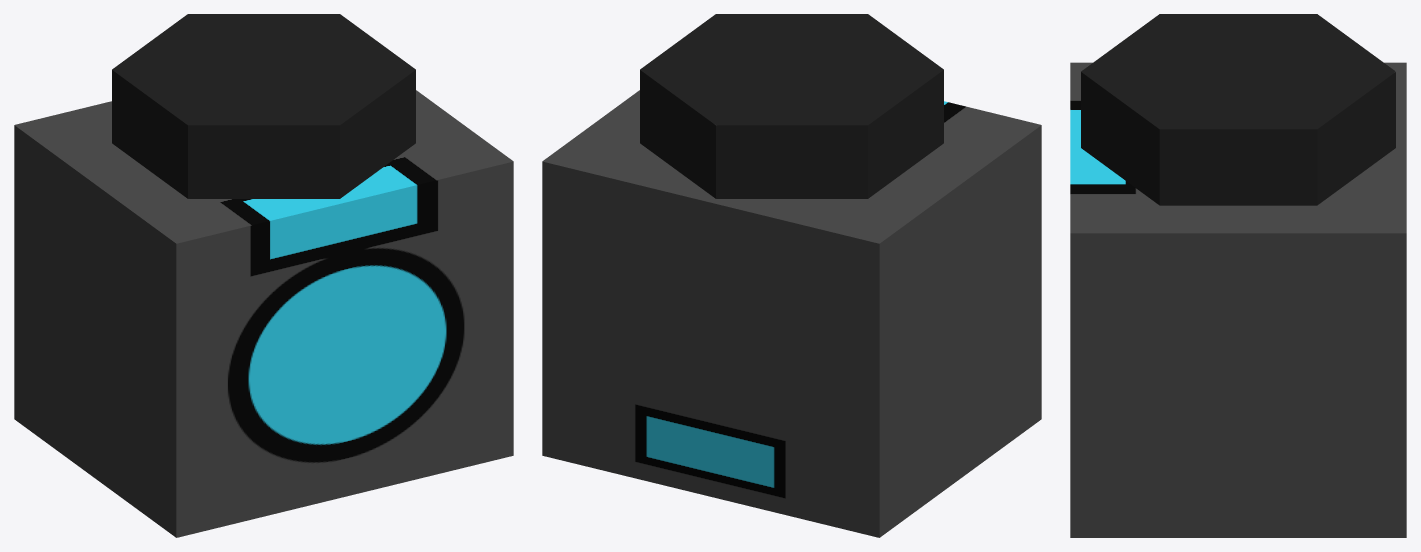
File: P_Body.gltf
3 renders of one model, left to right at view 1: azimuth 30°, elevation 25°; view 2: azimuth 150°, elevation 25°; view 3: azimuth 270°, elevation 25°, orthographic. The views are drawn at different scales.
Visible parts, largest first — view 1: P_Body; view 2: P_Body; view 3: P_Body.
Boxes of the visible parts, <box> form: P_Body: <box>14,14,513,537</box>; P_Body: <box>542,14,1041,537</box>; P_Body: <box>1070,14,1406,537</box>.
Size of the model in its own units: 1.92 by 2 by 1.6.
Materials: 1 (1 with a texture image).
